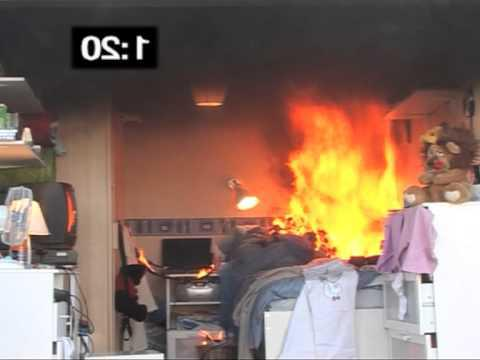fire: (269, 86, 419, 267)
